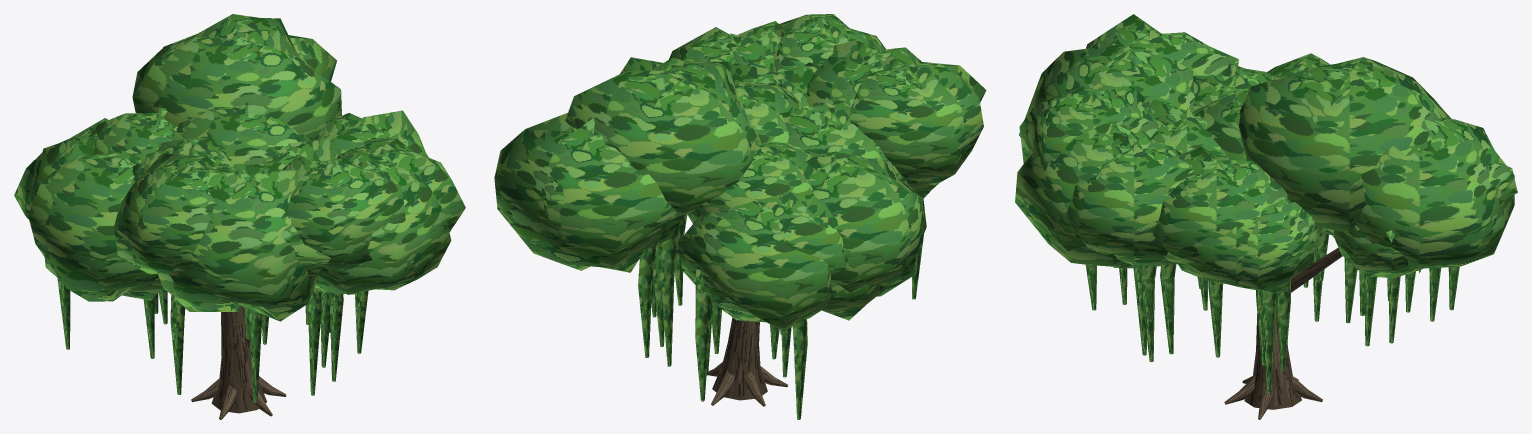
File: tree_weeping_willow.glb
3 views of the same model, side by side, from view 1: azimuth 30°, elevation 25°; view 2: azimuth 150°, elevation 25°; view 3: azimuth 270°, elevation 25° (orthographic). The views are drawn at different scales.
Visible parts, largest first — view 1: canopy, trunk; view 2: canopy, trunk; view 3: canopy, trunk.
Boxes of the visible parts, x1,y1,x2,y2 form: canopy: (14,14,465,402); trunk: (191,305,286,419); canopy: (494,14,986,419); trunk: (676,245,787,406); canopy: (1015,14,1517,393); trunk: (1224,248,1342,419).
Size of the model in its own units: 9.9 by 8.93 by 11.66.
Materials: 2 (2 with a texture image).
